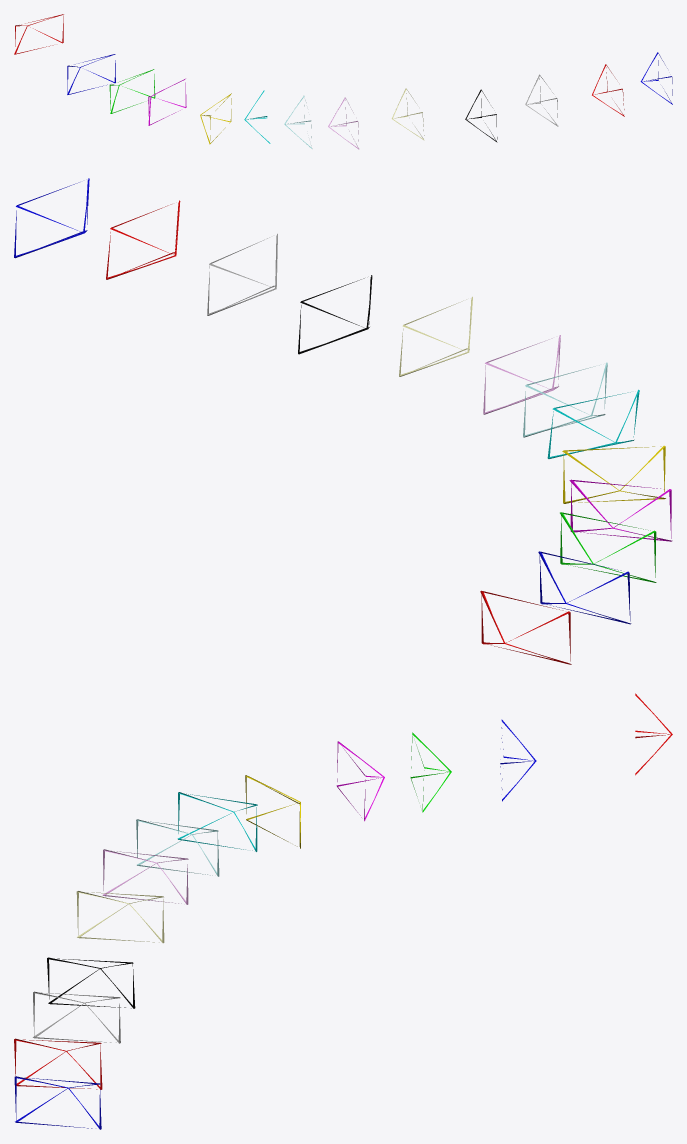
File: street_cam1.glb
3 views of the same model, one above another, from view 1: azimuth 30°, elevation 25°; view 2: azimuth 150°, elevation 25°; view 3: azimuth 270°, elevation 25° (orthographic). The views are drawn at different scales.
Parts seen in each view (by area): view 1: world; view 2: world; view 3: world.
Part boxes in pixels (x1=…): world: x1=14, y1=14, x2=672, y2=149; world: x1=14, y1=178, x2=672, y2=664; world: x1=14, y1=693, x2=672, y2=1129.
Bounding box in the file's own units: 0.8666 × 0.093 × 0.6612.
